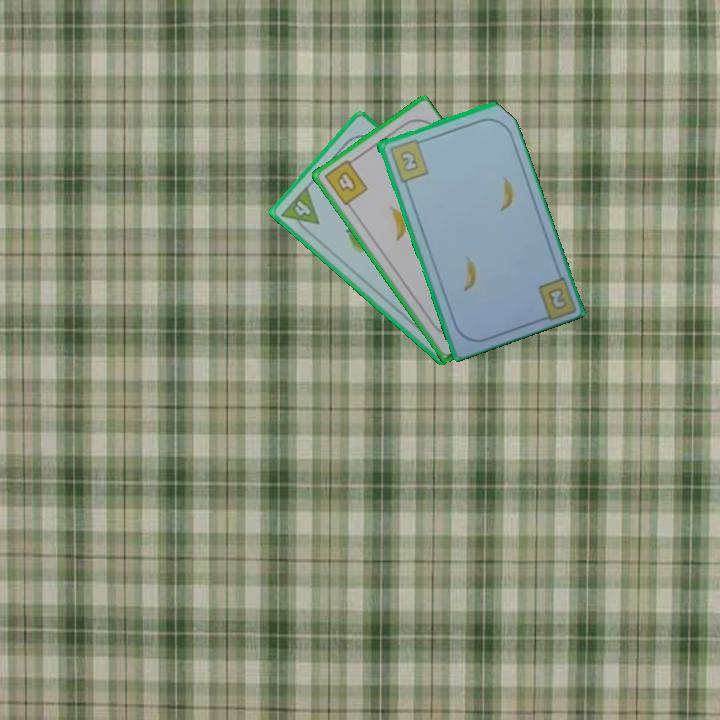2b: (385, 135, 431, 185), (544, 284, 569, 312)
4b: (320, 154, 371, 208)
4p: (277, 182, 322, 237)
